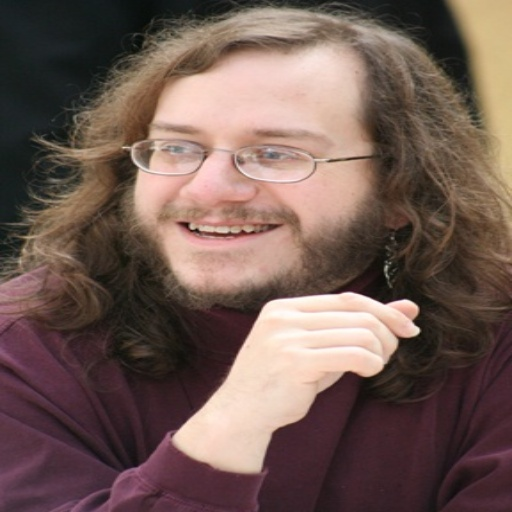hand: (151, 297, 407, 471)
